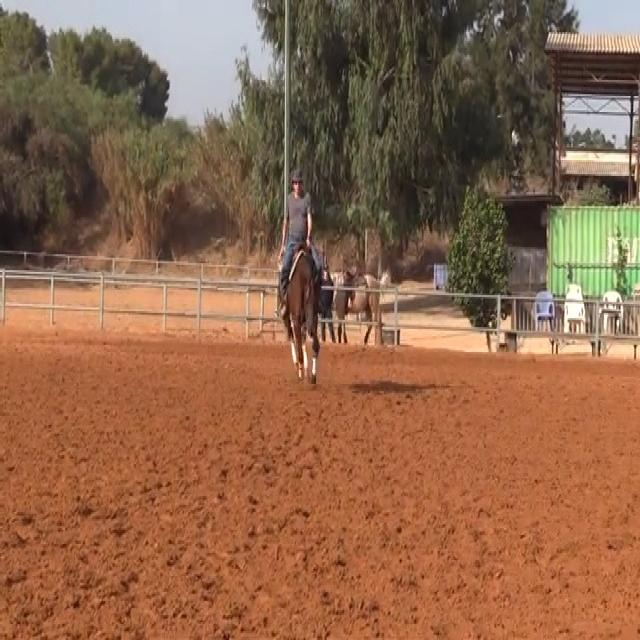horse: (276, 240, 324, 386)
